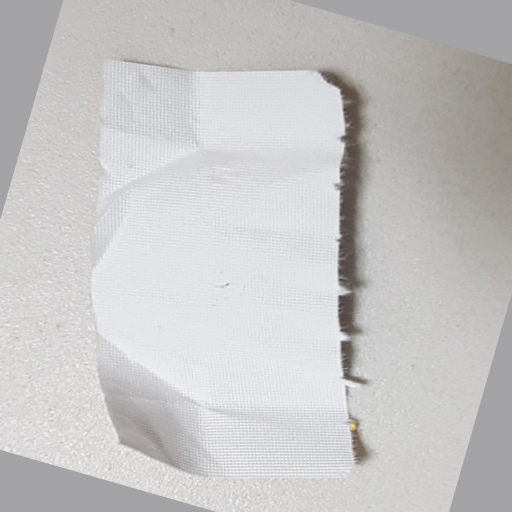Paper_3: (81, 47, 386, 492)
